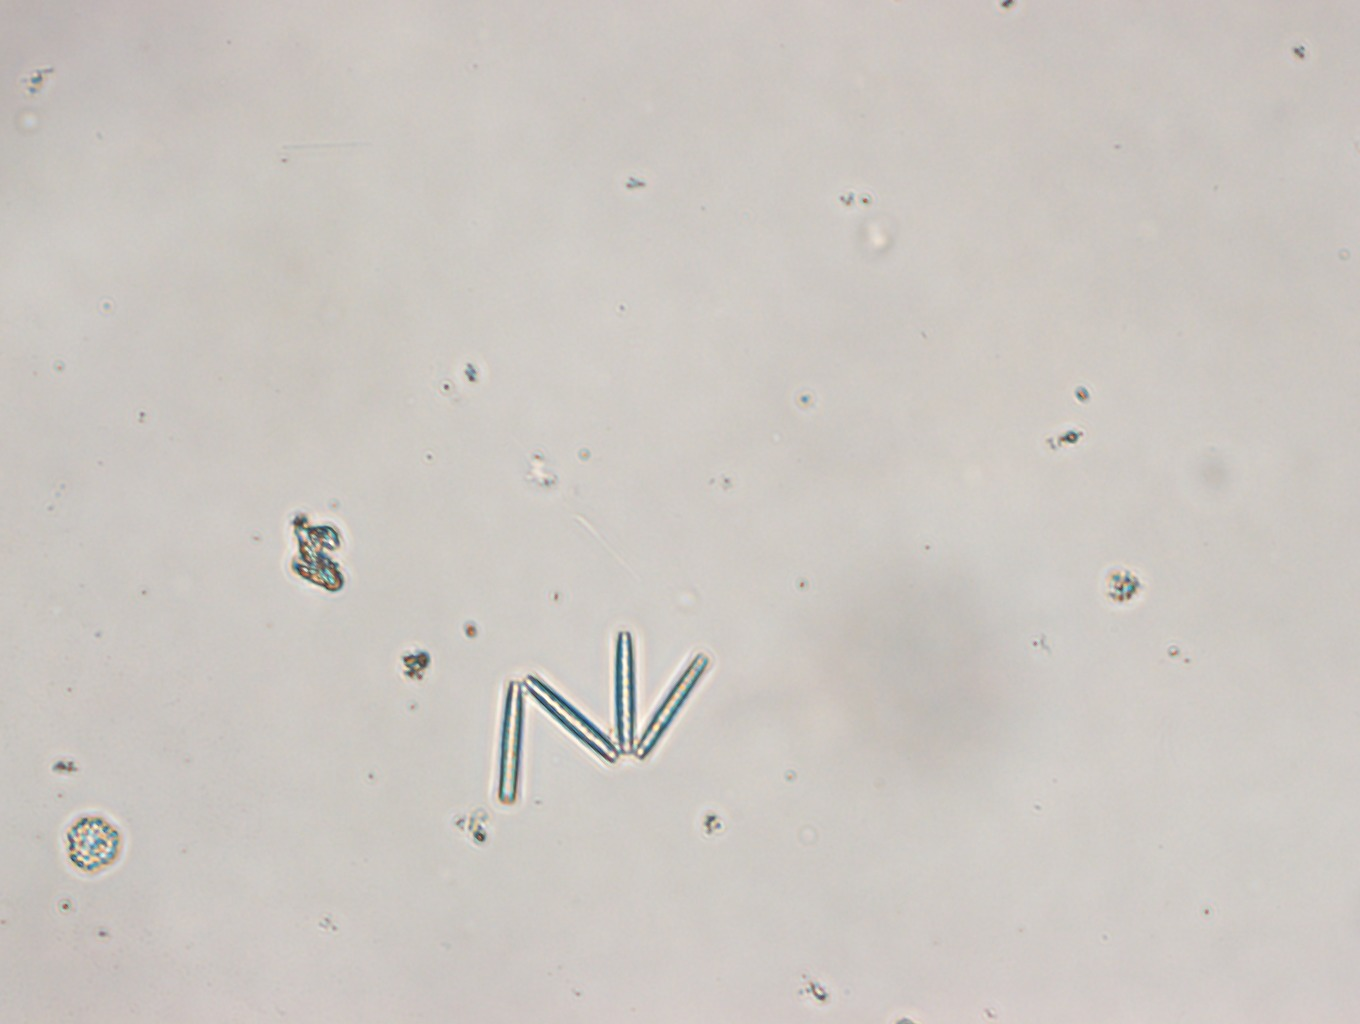thalassionema nitzschioides: (488, 628, 712, 807)
